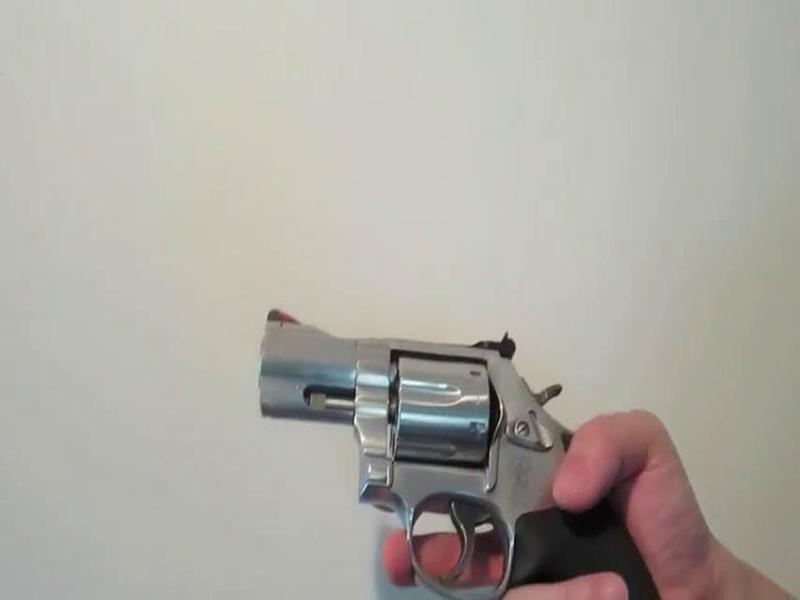Revolver: (226, 275, 606, 584)
